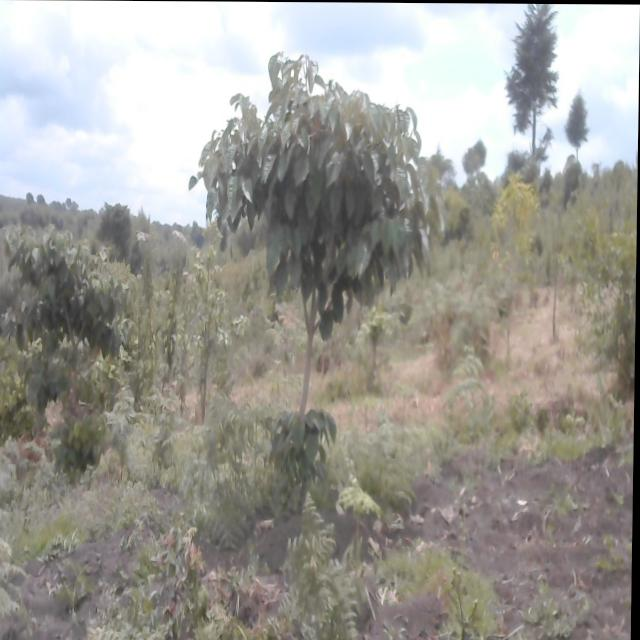cedrus: (505, 3, 564, 146), (564, 91, 595, 169)
other: (189, 46, 426, 479), (0, 227, 146, 431), (488, 171, 539, 355)
